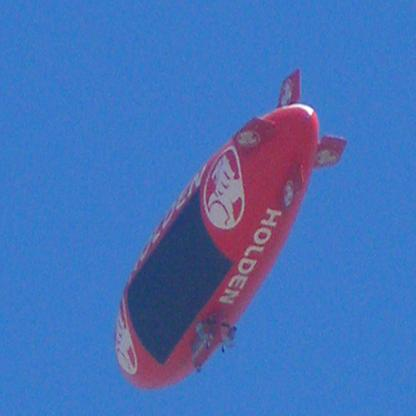Airship: (115, 67, 351, 393)
